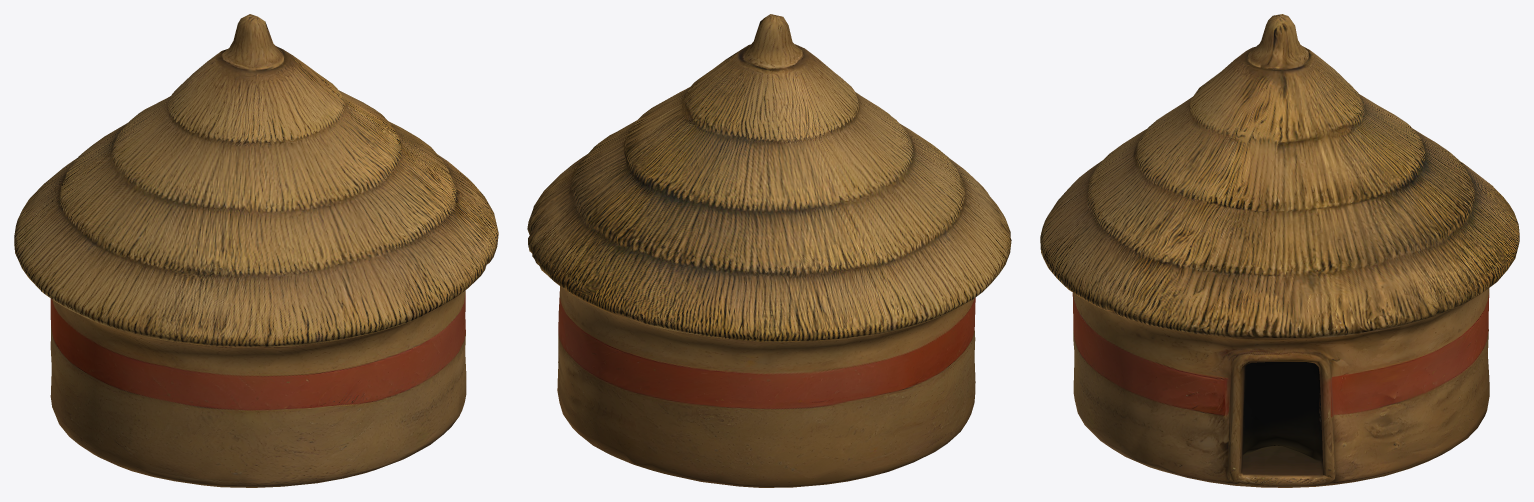
Rendered from hut.glb.
The picture shows the model from 3 angles, left to right: view 1: azimuth 30°, elevation 25°; view 2: azimuth 150°, elevation 25°; view 3: azimuth 270°, elevation 25°; orthographic projection.
Visible parts, largest first — view 1: tripo_node_c2be5f6e-3a32-4dd2-bd77-5b2d75b023eb; view 2: tripo_node_c2be5f6e-3a32-4dd2-bd77-5b2d75b023eb; view 3: tripo_node_c2be5f6e-3a32-4dd2-bd77-5b2d75b023eb.
Boxes of the visible parts, x1,y1,x2,y2 form: tripo_node_c2be5f6e-3a32-4dd2-bd77-5b2d75b023eb: (14, 14, 498, 487); tripo_node_c2be5f6e-3a32-4dd2-bd77-5b2d75b023eb: (527, 14, 1011, 487); tripo_node_c2be5f6e-3a32-4dd2-bd77-5b2d75b023eb: (1040, 14, 1519, 487).
Size of the model in its own units: 1 by 0.8934 by 0.9989.
1 material, 1 textured.
